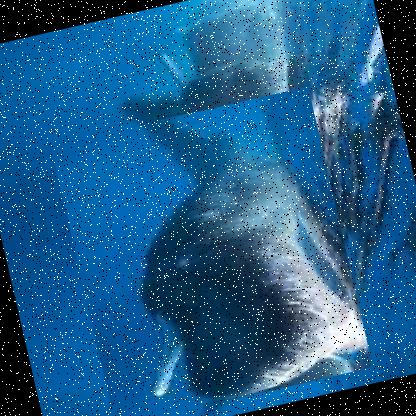sperm_whale: (49, 84, 373, 415)
